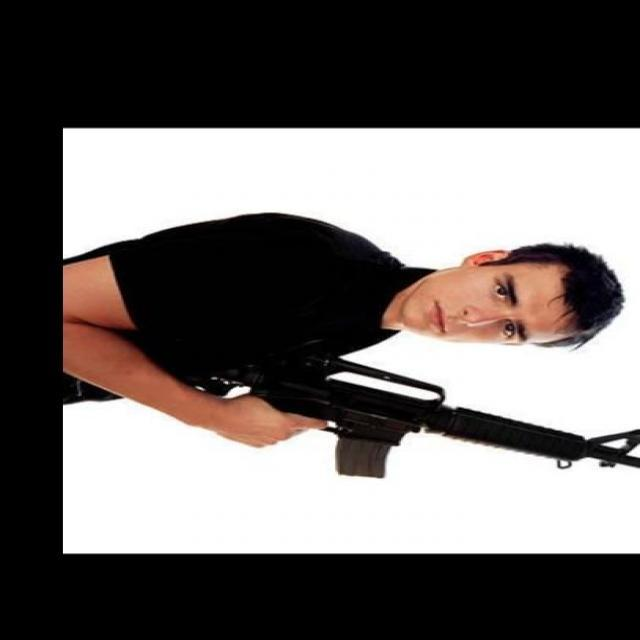weapon: (207, 352, 640, 479)
